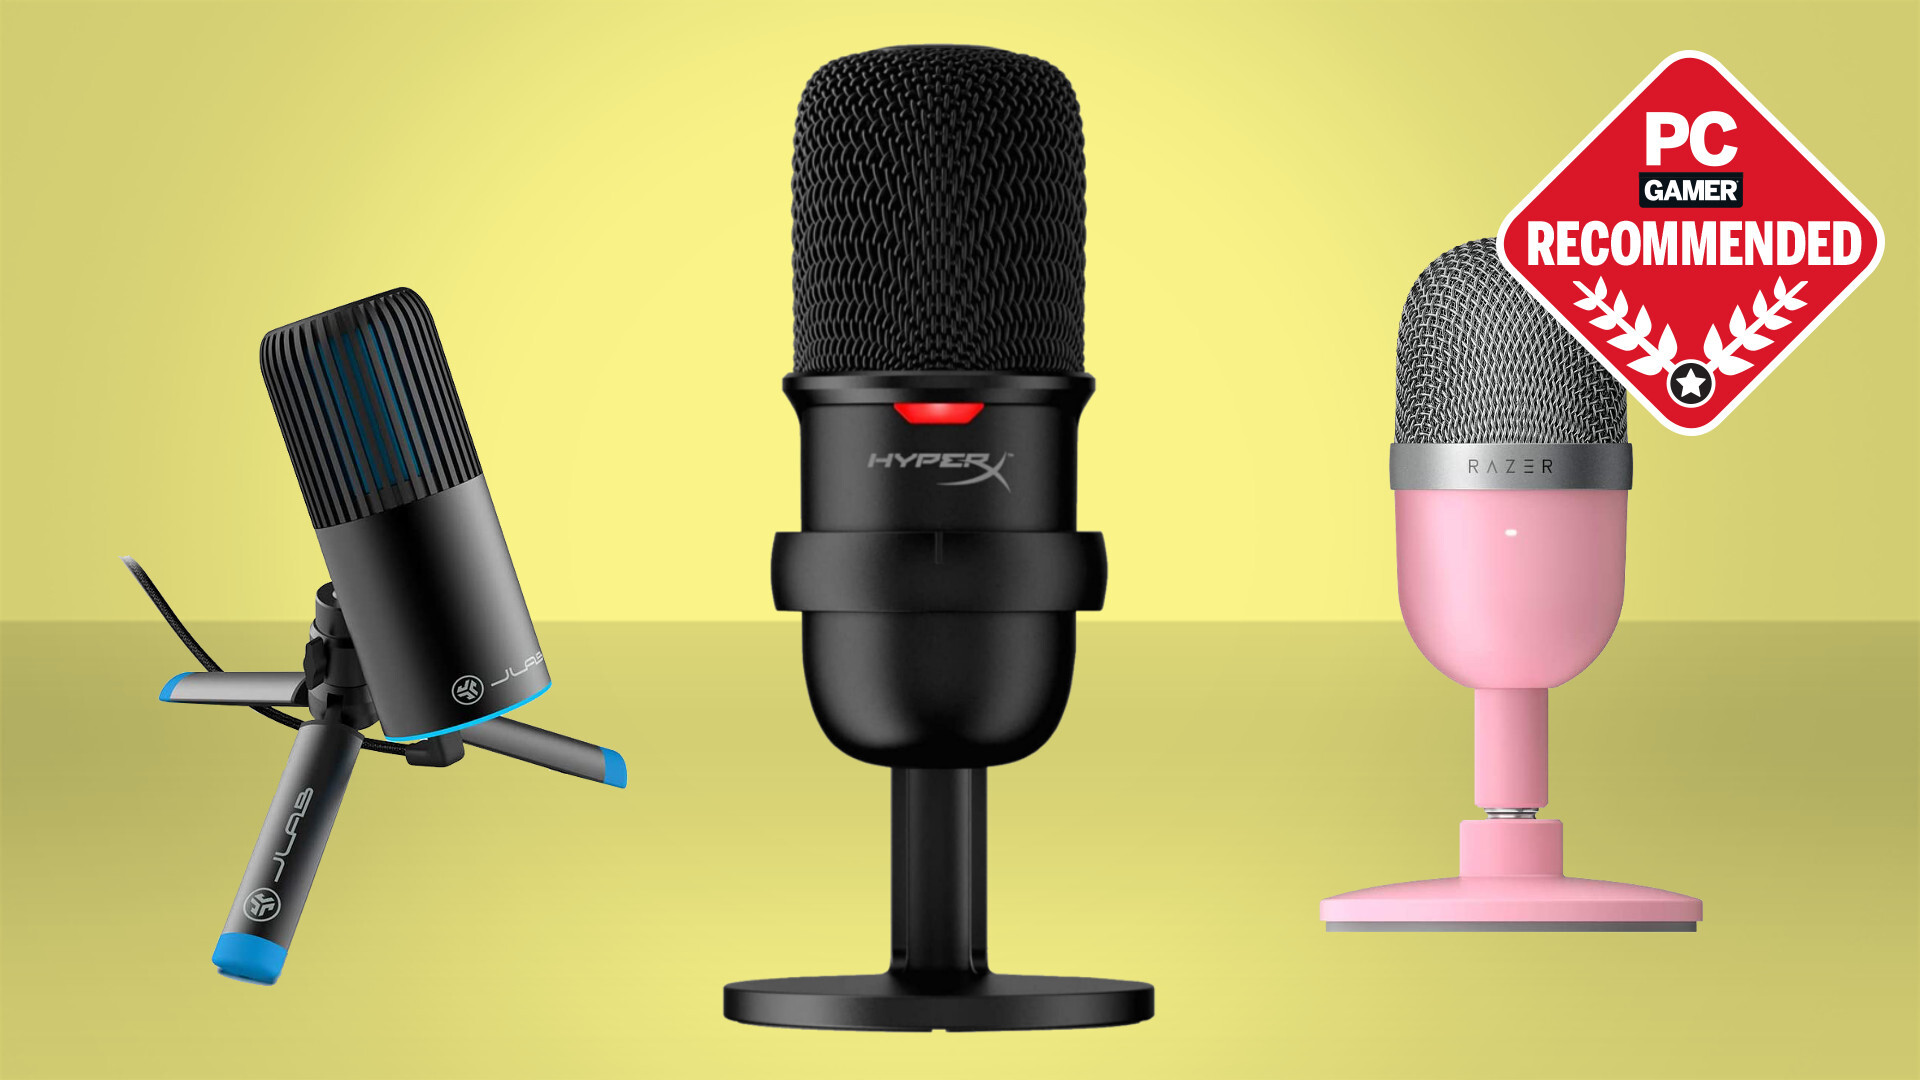microphone: (719, 40, 1156, 1035), (119, 282, 634, 992), (1319, 235, 1706, 940)
